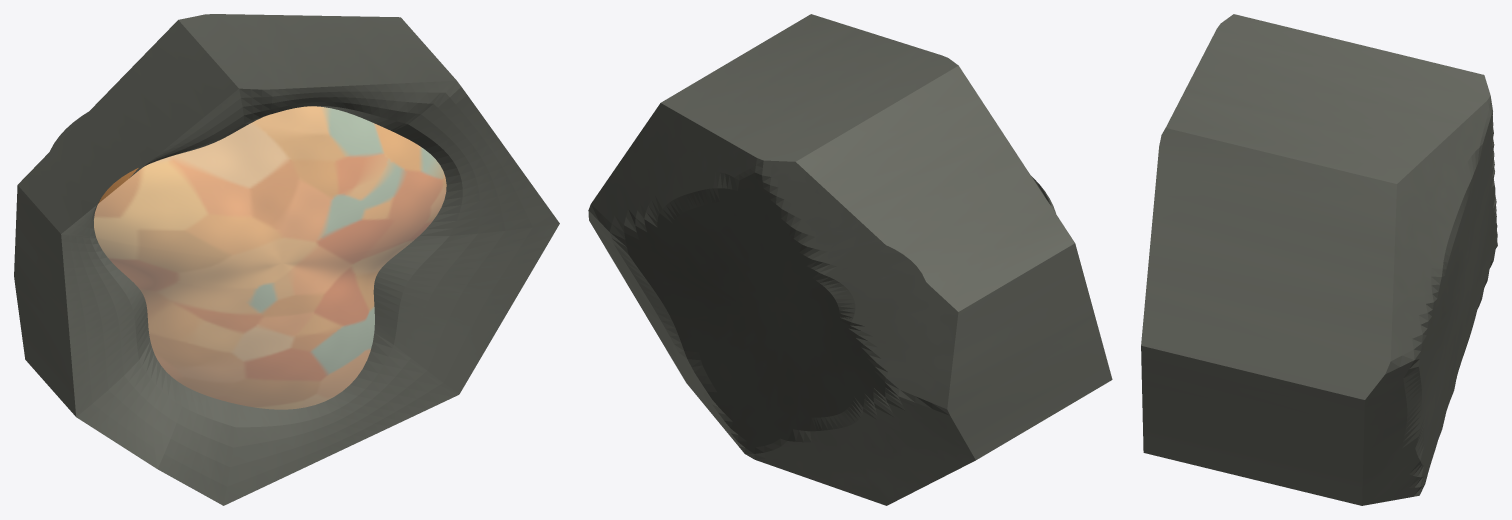
File: corealm_item_fire_opal.glb
3 views of the same model, side by side, from view 1: azimuth 30°, elevation 25°; view 2: azimuth 150°, elevation 25°; view 3: azimuth 270°, elevation 25° (orthographic). The views are drawn at different scales.
Parts seen in each view (by area): view 1: corealm_item_fire_opal; view 2: corealm_item_fire_opal; view 3: corealm_item_fire_opal.
Part boxes in pixels (x1=…): corealm_item_fire_opal: x1=14, y1=14, x2=559, y2=505; corealm_item_fire_opal: x1=588, y1=14, x2=1112, y2=505; corealm_item_fire_opal: x1=1141, y1=14, x2=1497, y2=505.
Size of the model in its own units: 0.3475 by 0.2777 by 0.2031.
Materials: 2 (1 with a texture image).
